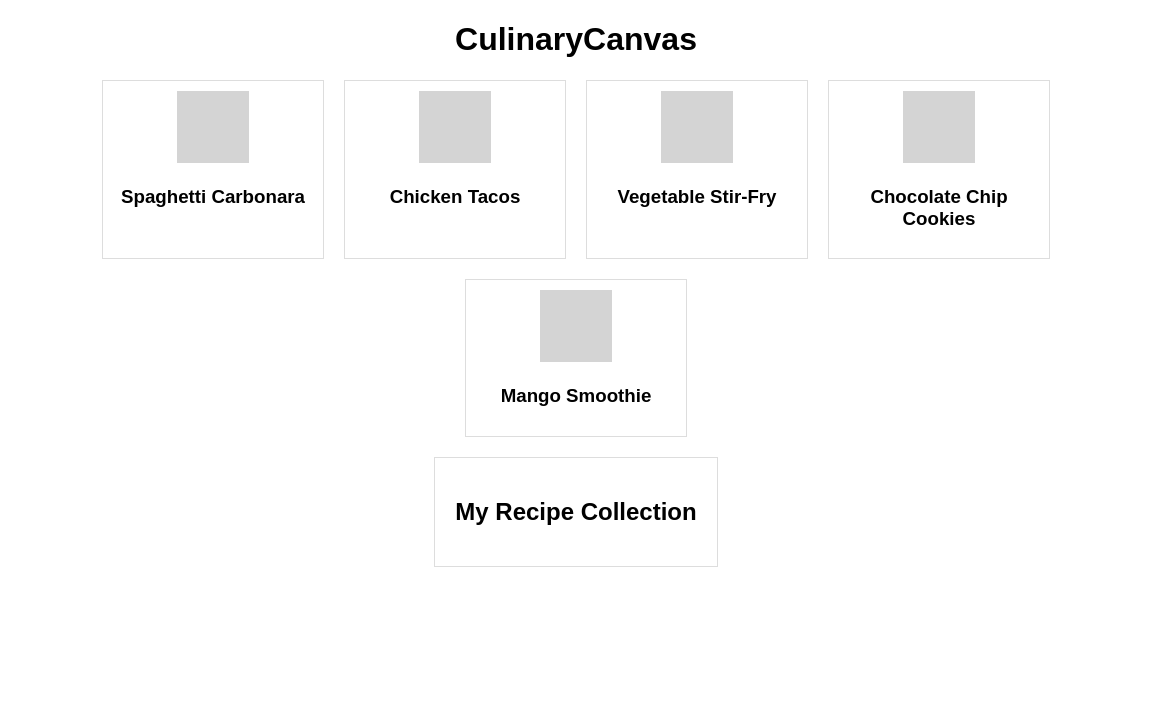
Test: App › displays 'Save to Collection' button for the list of recipes › displays_save_to_collection_button_for_spaghetti_carbonara
Click the heading "Spaghetti Carbonara" at (213, 197), box top-left (113, 186), bottom-right (313, 208)
(page scrolled)
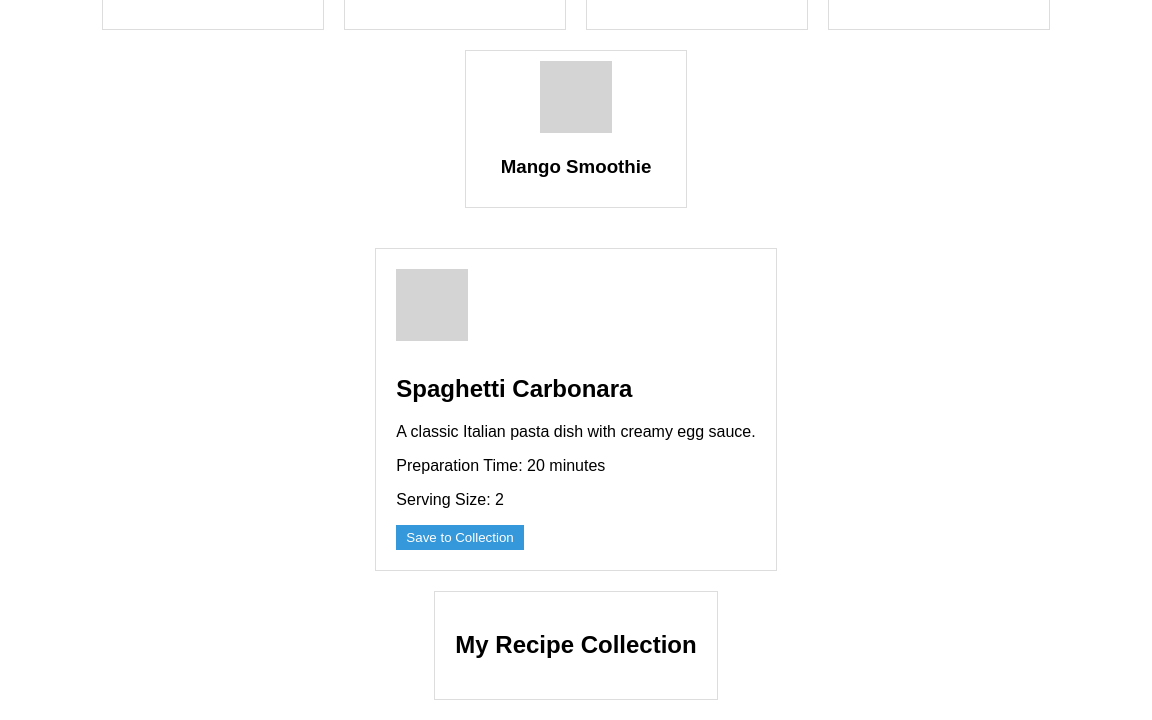
Expected: the button "Save to Collection" is shown, top-left (396, 525), bottom-right (524, 550)
